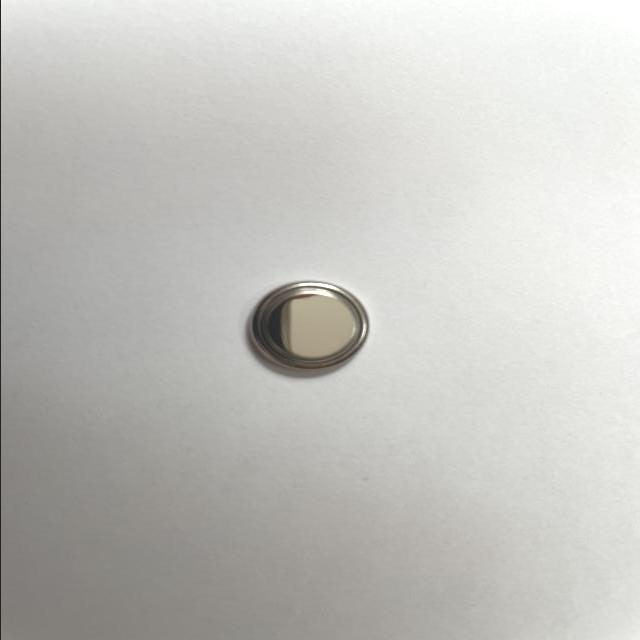COIN: (241, 278, 372, 381)
